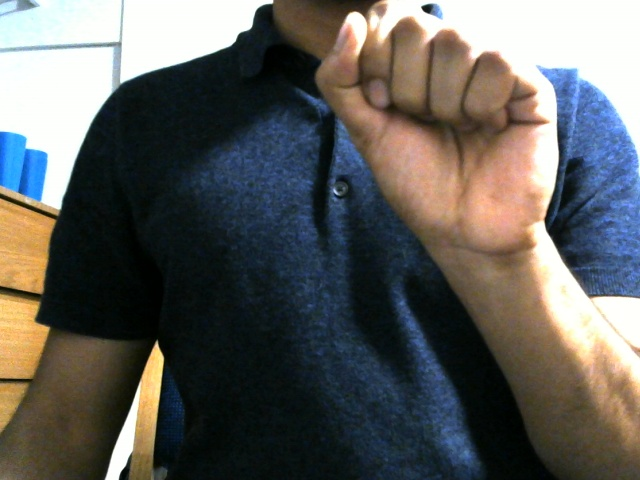A: (305, 1, 572, 247)
